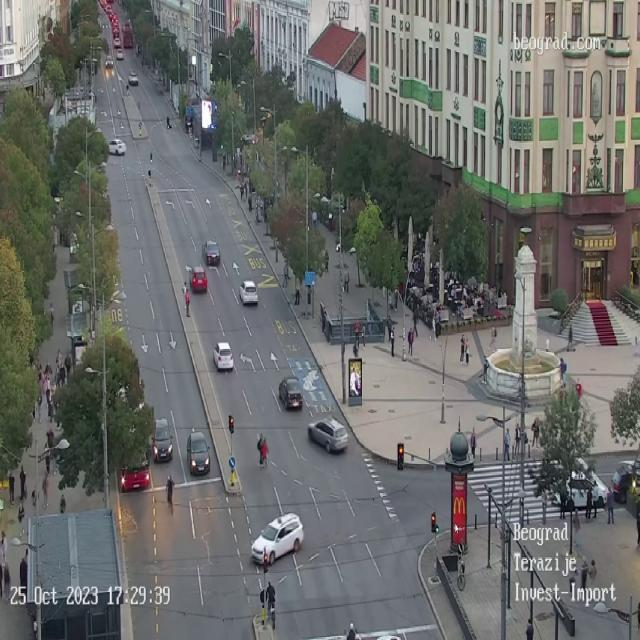bus: (122, 16, 133, 51)
car: (251, 513, 304, 566), (554, 470, 608, 510), (307, 418, 348, 454), (118, 459, 151, 493), (186, 431, 210, 476), (612, 460, 640, 497), (151, 417, 173, 463), (278, 375, 303, 410), (212, 341, 234, 371), (185, 264, 207, 294), (239, 280, 258, 306), (204, 236, 218, 262), (107, 139, 126, 157), (129, 74, 139, 86), (105, 57, 114, 69), (116, 49, 125, 61), (114, 39, 122, 47)
